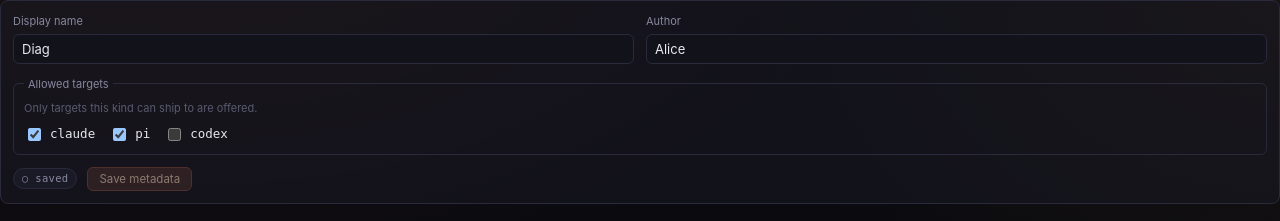
MetadataForm — editing + save › editing display_name + author and saving sends the edited body, then clears dirty
The width and height of the screenshot is (1280, 221).
Replace the text in the field labelled "Display name" with "Diagnose" at (324, 48), box [13,34,634,64]
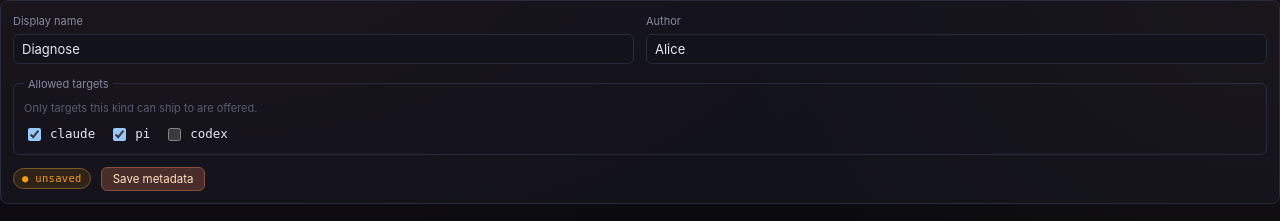
Replace the text in the field labelled "Author" with "Bob" at (956, 48), box [646,34,1267,64]
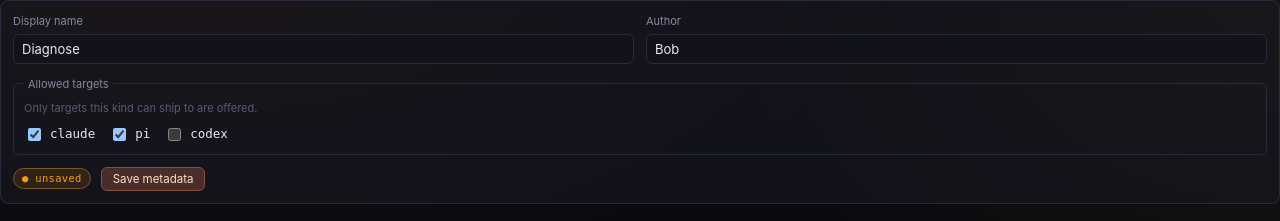
Expected: the button "Save metadata" is enabled
Click the button "Save metadata".
click(153, 178)  # box [101,166,205,190]
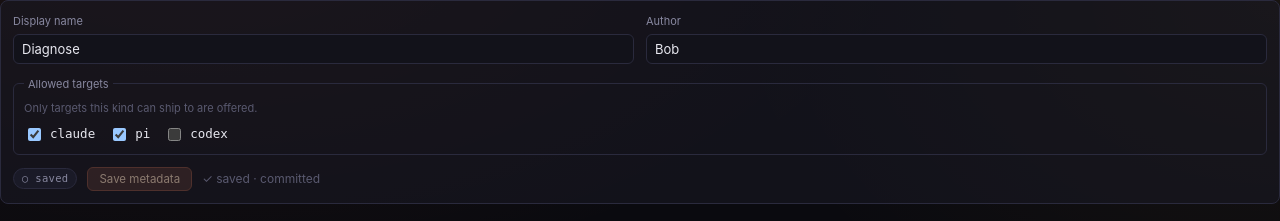
Expected: the button "Save metadata" is disabled, [88,166,192,190]
Expected: the text "✓ saved · committed" is shown, [202,170,320,188]
